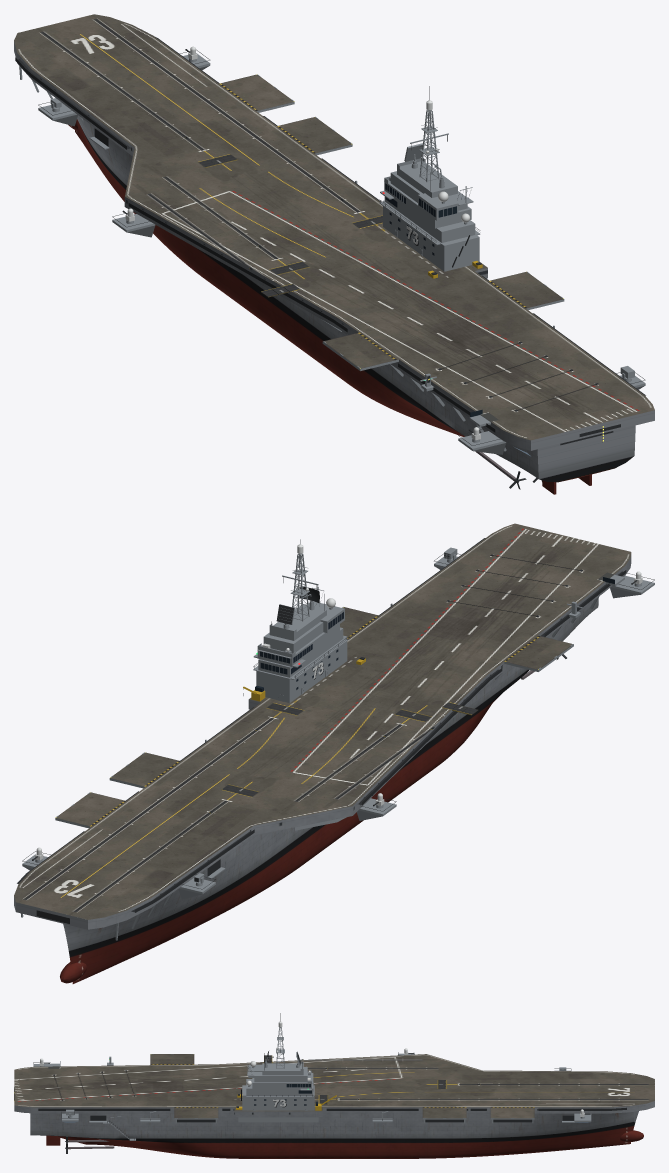
File: carrier.glb
3 renders of one model, top to bottom at view 1: azimuth 30°, elevation 25°; view 2: azimuth 150°, elevation 25°; view 3: azimuth 270°, elevation 25°, orthographic. The views are drawn at different scales.
Visible parts, largest first — view 1: carrier_static, elevator_4, elevator_1, elevator_2, elevator_3; view 2: carrier_static, elevator_4, elevator_2, elevator_1; view 3: carrier_static, elevator_1, elevator_2, elevator_3, elevator_4.
Part boxes in pixels (x1,y1,x2,y2): carrier_static: (14,14,654,494); elevator_4: (322,332,398,371); elevator_1: (219,74,294,112); elevator_2: (277,116,352,155); elevator_3: (489,271,564,309); carrier_static: (14,523,654,983); elevator_4: (504,635,573,671); elevator_2: (109,752,180,788); elevator_1: (55,792,125,828); carrier_static: (14,1013,654,1158); elevator_1: (490,1107,534,1119); elevator_2: (422,1107,466,1119); elevator_3: (174,1107,218,1119); elevator_4: (150,1054,194,1064).
Size of the model in its own units: 83.63 by 81 by 320.
13 materials, 2 textured.
